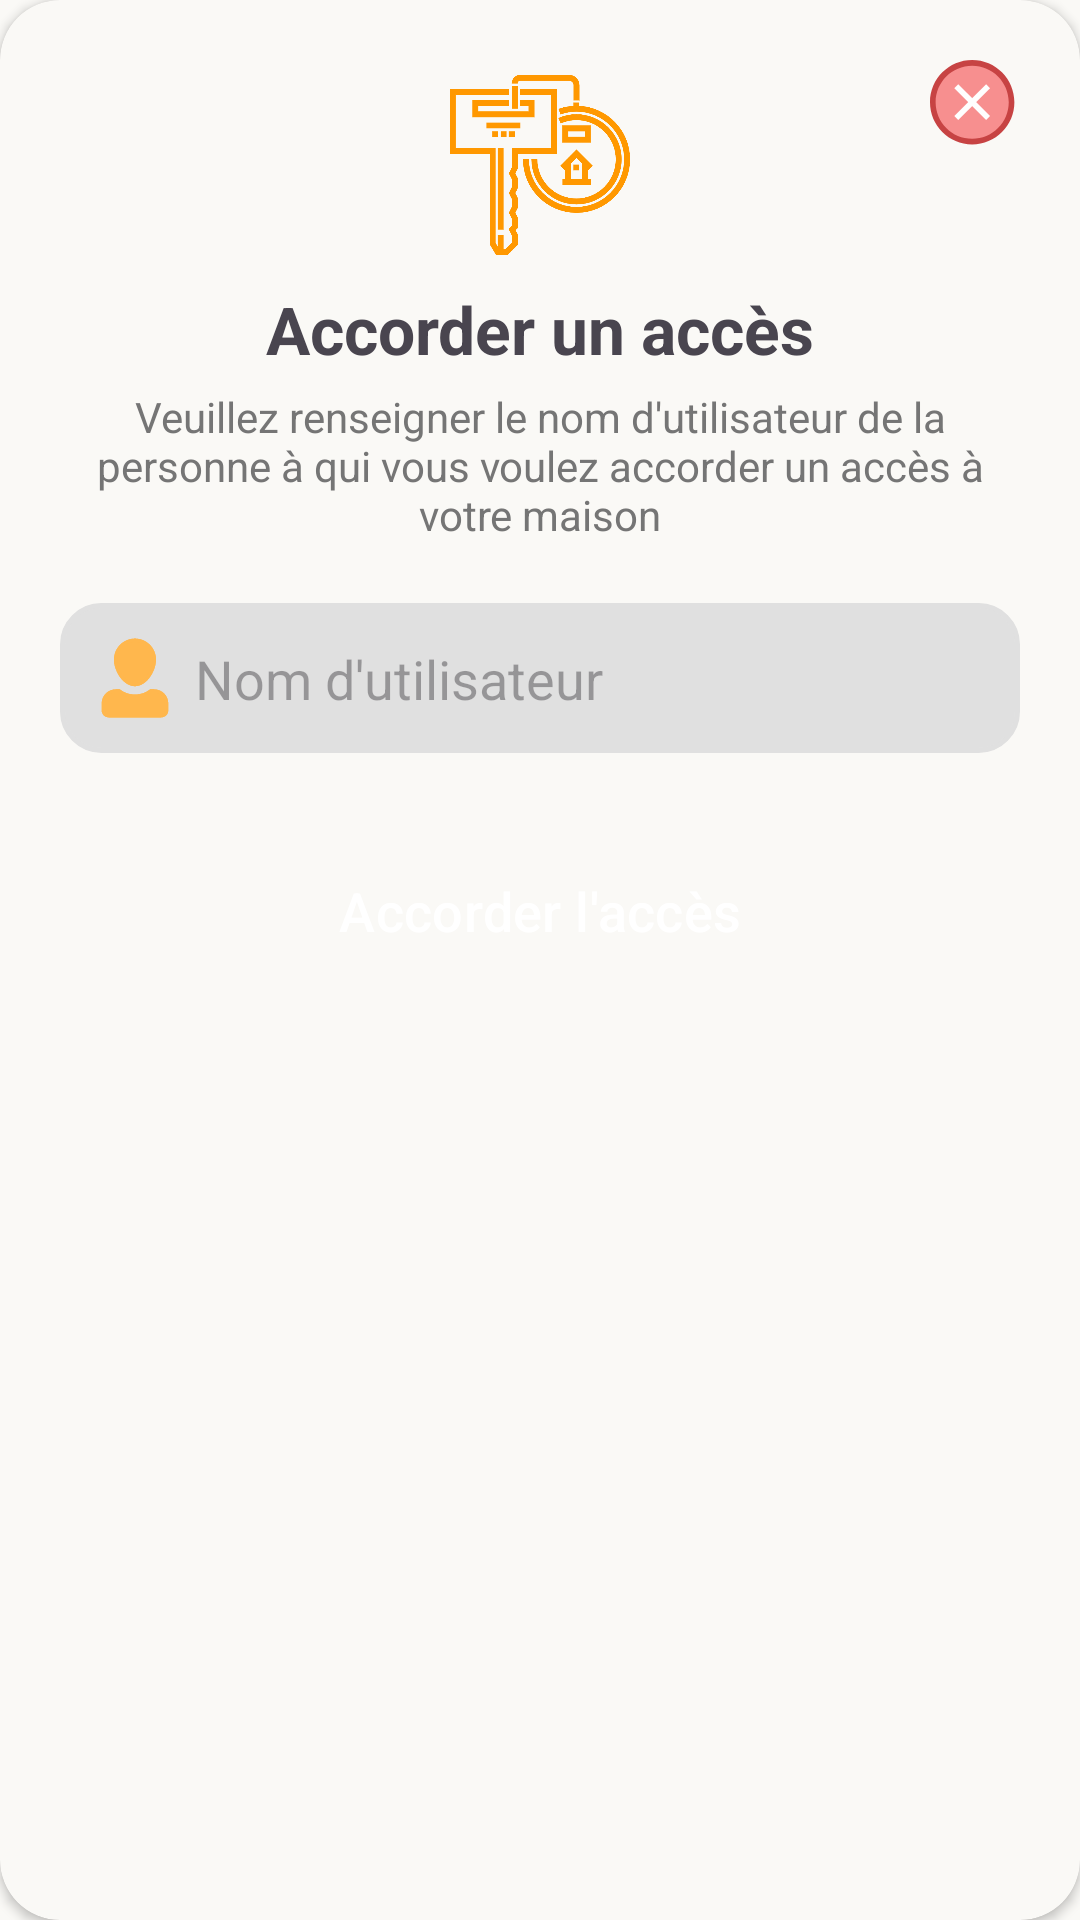

Icon bounding boxes for this 1080*1920 phone screenshot, format [x1, y1, x2, y2]:
cancel: [930, 60, 1015, 145]
house key keyword: [450, 75, 630, 255]
user: [101, 638, 169, 718]
